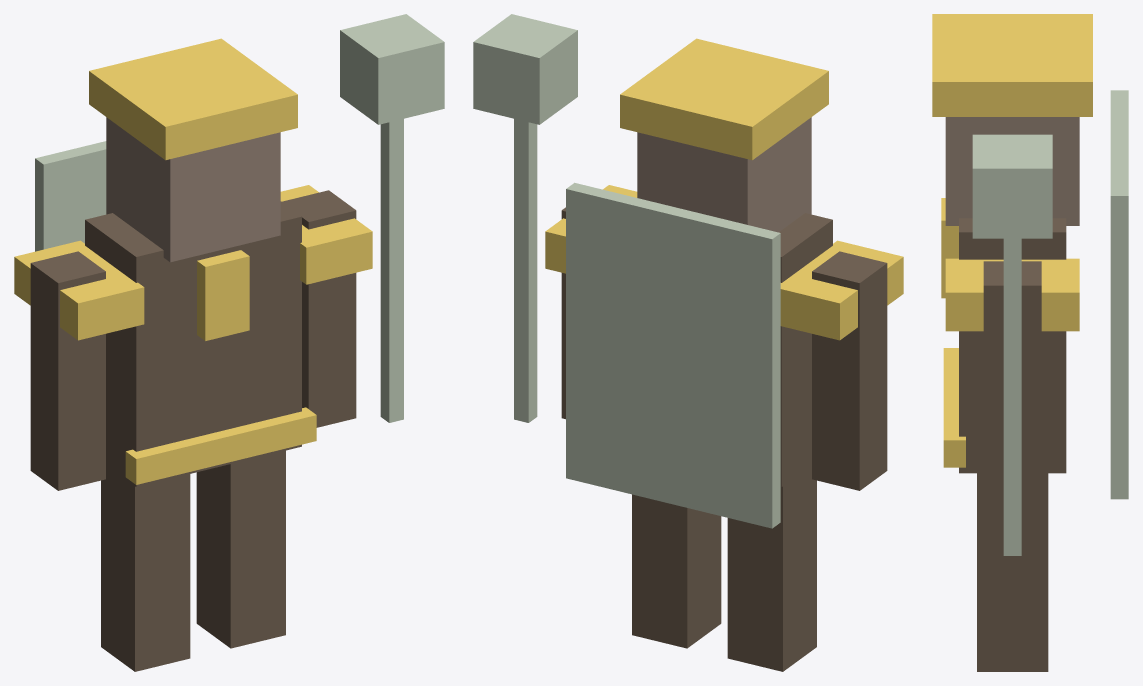
The model's file is 09_nix_cinderholt_runner_at_hidden.glb.
The picture shows the model from 3 angles, left to right: view 1: azimuth 30°, elevation 25°; view 2: azimuth 150°, elevation 25°; view 3: azimuth 270°, elevation 25°; orthographic projection. The views are drawn at different scales.
Visible parts, largest first — view 1: Nix Cinderholt, Runner at Hidden; view 2: Nix Cinderholt, Runner at Hidden; view 3: Nix Cinderholt, Runner at Hidden.
Boxes of the visible parts, x1,y1,x2,y2 form: Nix Cinderholt, Runner at Hidden: [14, 14, 444, 671]; Nix Cinderholt, Runner at Hidden: [473, 14, 903, 671]; Nix Cinderholt, Runner at Hidden: [932, 14, 1128, 671].
Bounding box in the file's own units: 1.1 × 1.54 × 0.4692.
